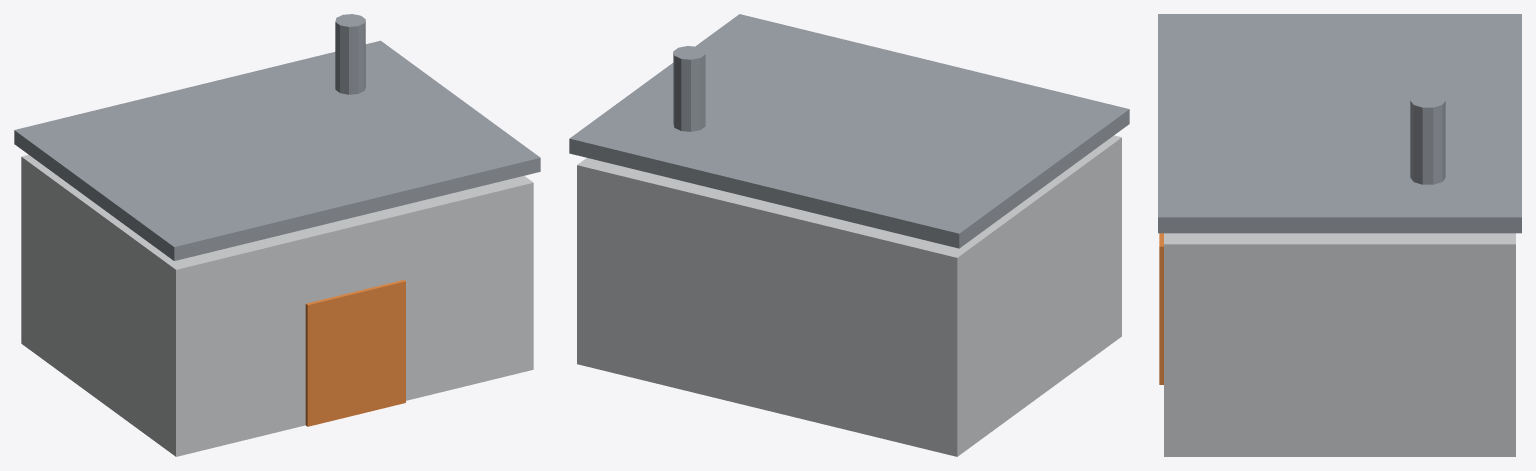
File: workshop.glb
3 views of the same model, side by side, from view 1: azimuth 30°, elevation 25°; view 2: azimuth 150°, elevation 25°; view 3: azimuth 270°, elevation 25° (orthographic). The views are drawn at different scales.
Visible parts, largest first — view 1: workshop; view 2: workshop; view 3: workshop.
Part boxes in pixels (bbox=[...]): workshop: bbox=[14, 14, 540, 456]; workshop: bbox=[569, 14, 1129, 456]; workshop: bbox=[1158, 14, 1521, 456].
Size of the model in its own units: 8.2 by 6 by 6.2.
